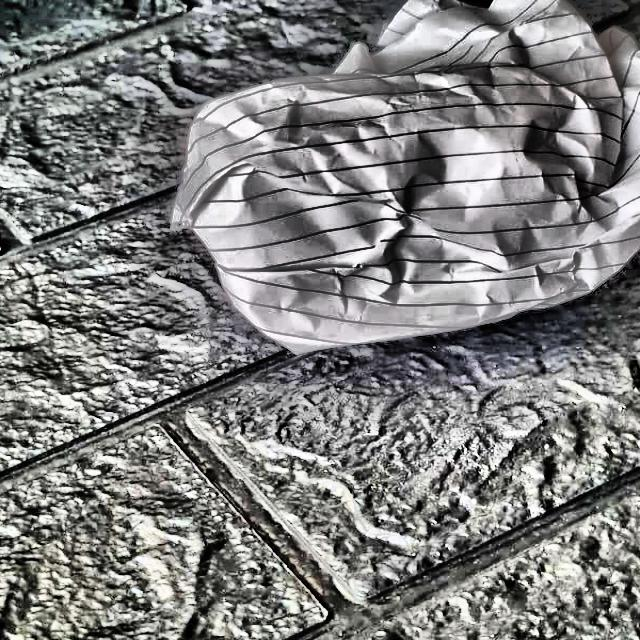paper: (178, 0, 640, 358)
